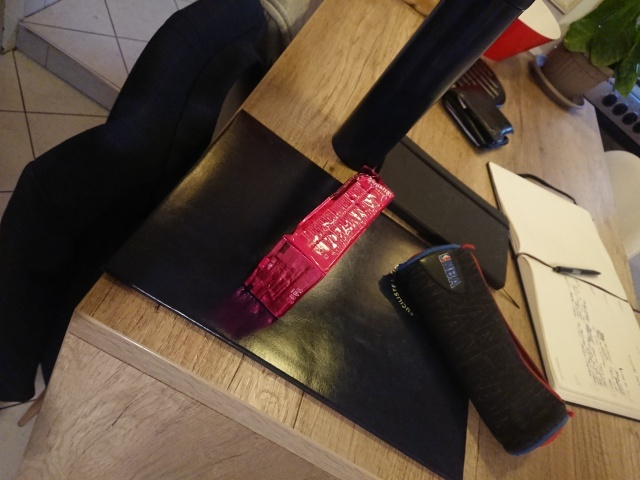Barcaffe Classic Original 225g: (239, 164, 397, 322)
